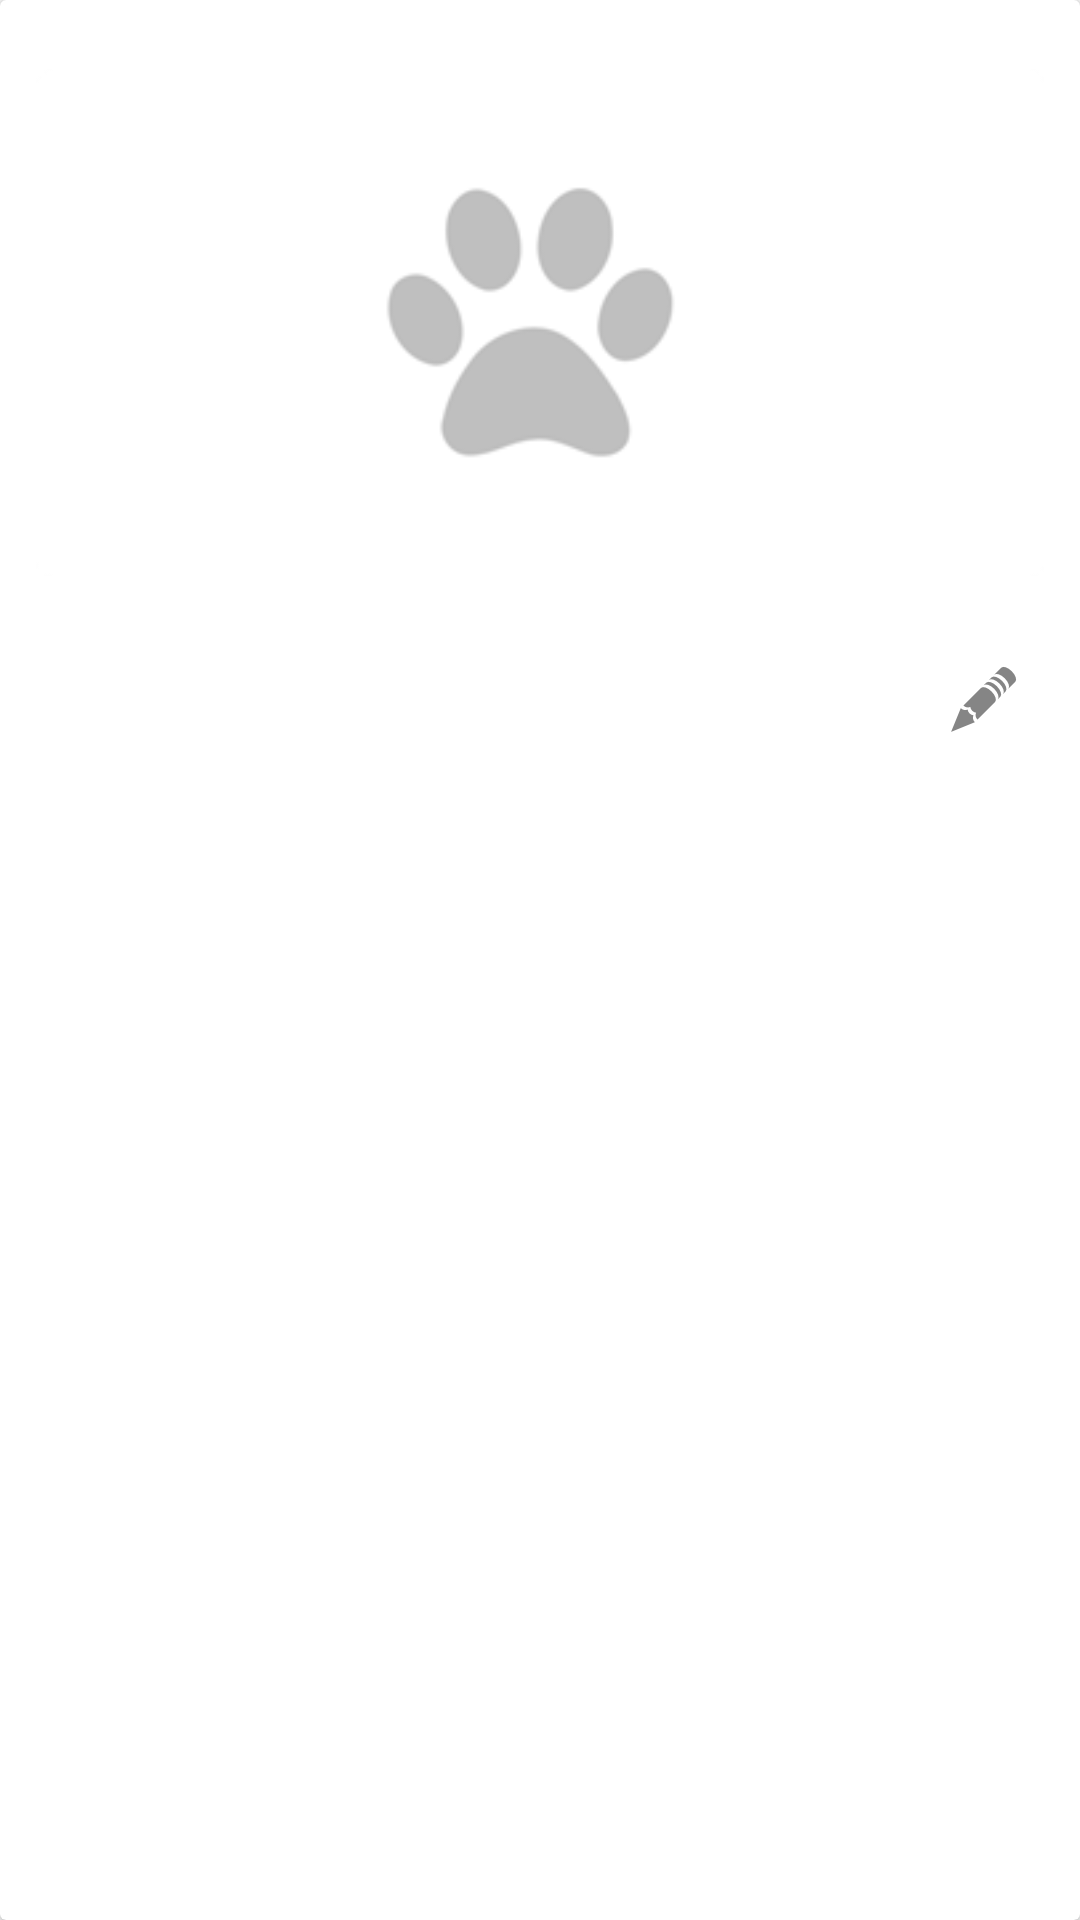

Icons on this 1080*1920 Android screen, each with its box as (x1, y1, x2, y2):
edit: (951, 667, 1016, 732)
